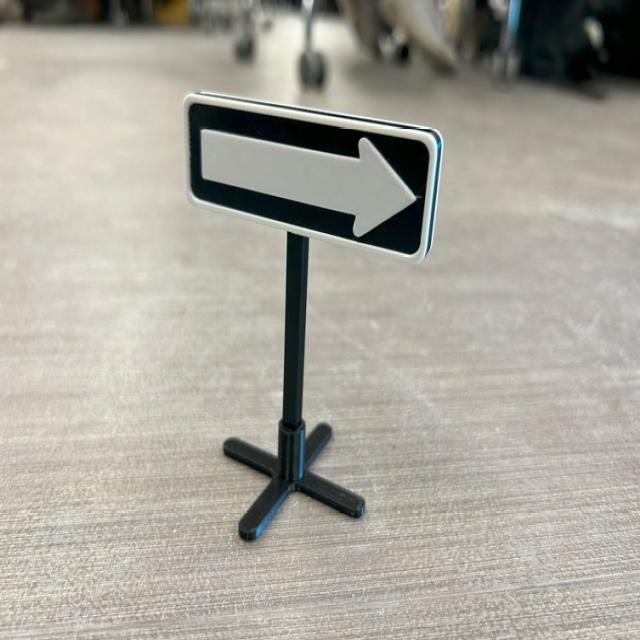sign_oneway_right: (180, 78, 447, 279)
